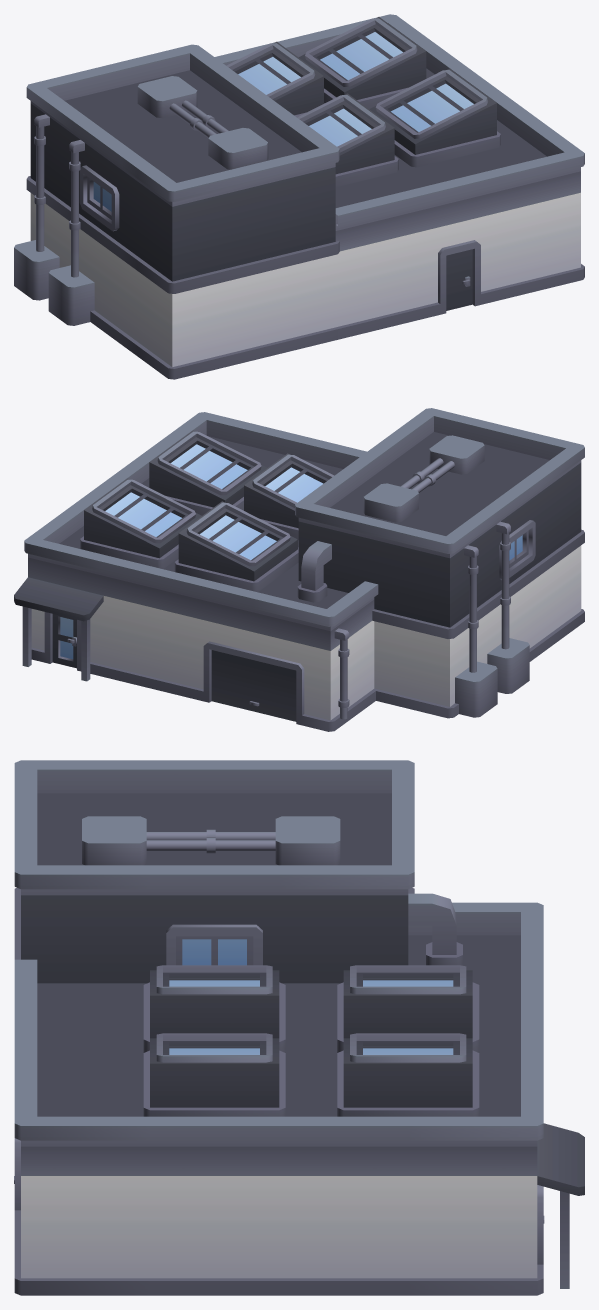
Rendered from k-city-kit-industrial-building-q.glb.
The picture shows the model from 3 angles, top to bottom: view 1: azimuth 30°, elevation 25°; view 2: azimuth 150°, elevation 25°; view 3: azimuth 270°, elevation 25°; orthographic projection. The views are drawn at different scales.
Parts seen in each view (by area): view 1: building-q; view 2: building-q; view 3: building-q.
Part boxes in pixels (bbox=[...]): building-q: bbox=[14, 14, 584, 379]; building-q: bbox=[14, 408, 584, 731]; building-q: bbox=[14, 760, 584, 1295].
Size of the model in its own units: 2.14 by 0.8799 by 1.77.
1 material, 1 textured.
